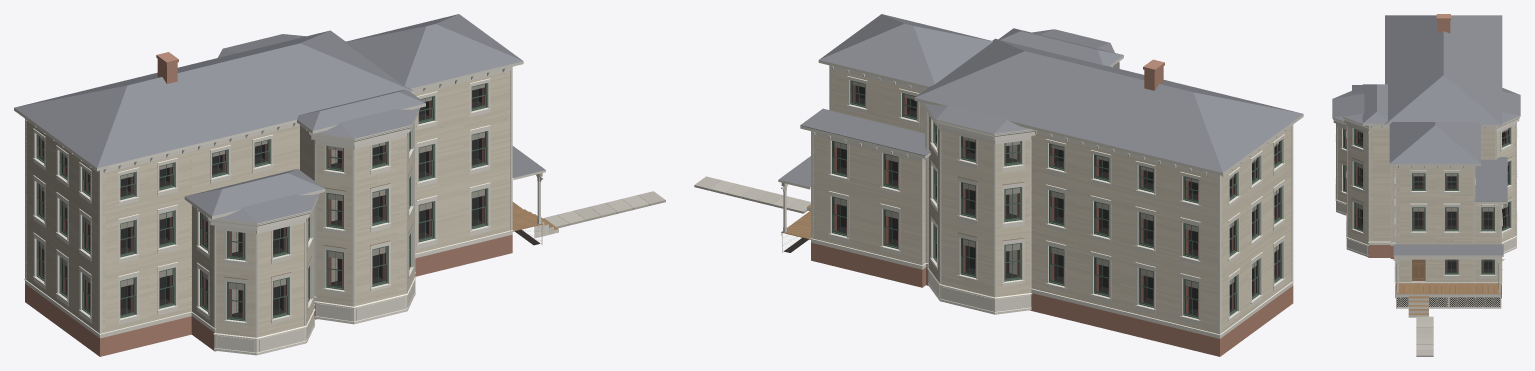
File: house_2000_prairie__as_mapped_1904.glb
3 renders of one model, left to right at view 1: azimuth 30°, elevation 25°; view 2: azimuth 150°, elevation 25°; view 3: azimuth 270°, elevation 25°, orthographic. The views are drawn at different scales.
Parts seen in each view (by area): view 1: house_2000_prairie__as_mapped_1904; view 2: house_2000_prairie__as_mapped_1904; view 3: house_2000_prairie__as_mapped_1904.
Part boxes in pixels (<box>): house_2000_prairie__as_mapped_1904: <box>14,14,665,356</box>; house_2000_prairie__as_mapped_1904: <box>694,14,1303,356</box>; house_2000_prairie__as_mapped_1904: <box>1332,14,1520,356</box>.
Size of the model in its own units: 33.48 by 13.41 by 13.05.
